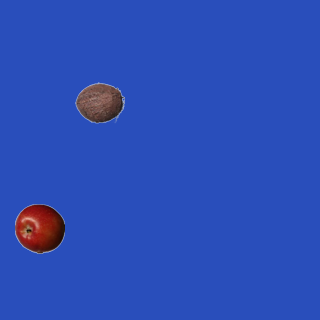Apple Braeburn: (14, 203, 64, 253)
Cocos: (74, 77, 124, 127)
